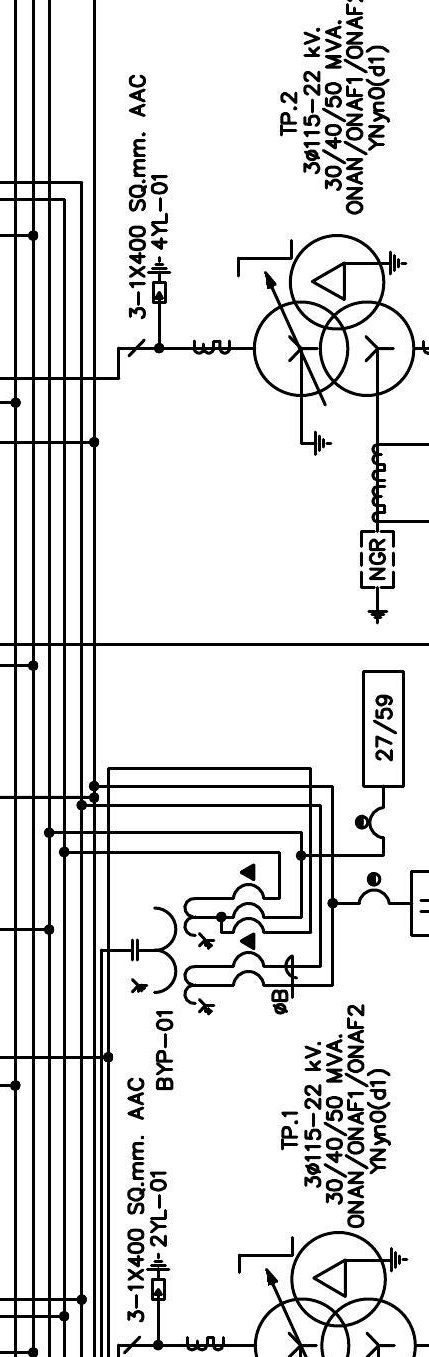11522_tx_ynyn0d1: (252, 233, 416, 400)
115_cvt_3p: (131, 896, 216, 1016)
115_la: (146, 255, 172, 304), (145, 1252, 171, 1301)
NGR_future: (359, 530, 396, 625)
